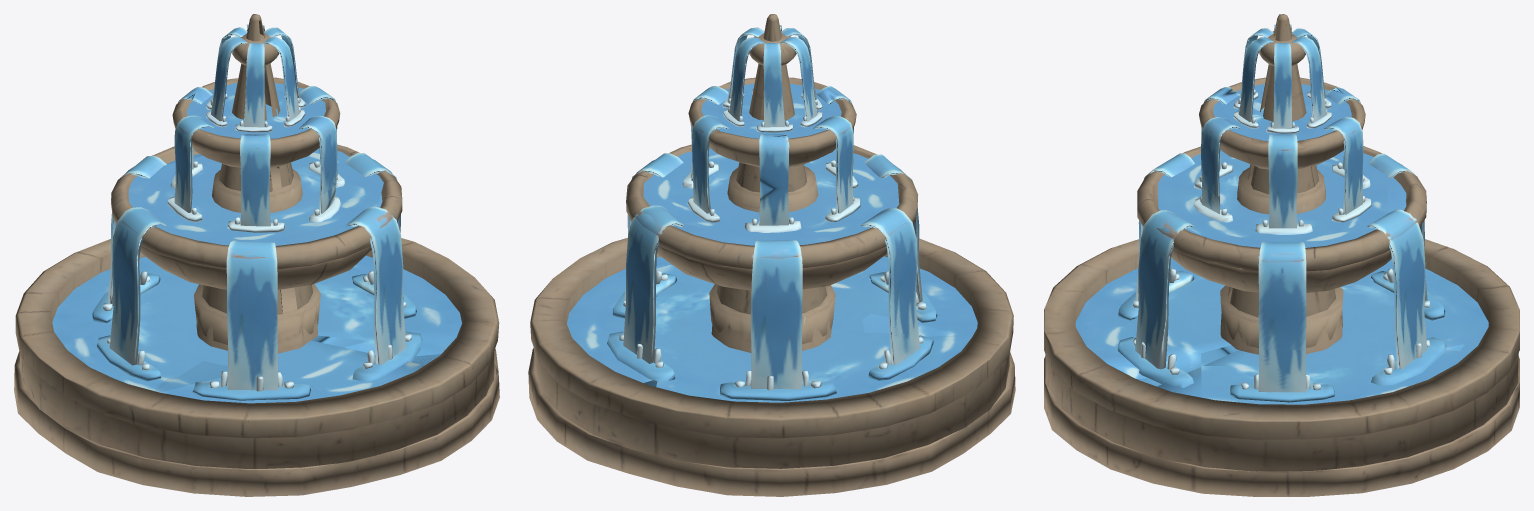
File: fountain.glb
3 renders of one model, left to right at view 1: azimuth 30°, elevation 25°; view 2: azimuth 150°, elevation 25°; view 3: azimuth 270°, elevation 25°, orthographic.
Visible parts, largest first — view 1: geometry_0; view 2: geometry_0; view 3: geometry_0.
Boxes of the visible parts, x1,y1,x2,y2 form: geometry_0: (14, 14, 499, 496); geometry_0: (528, 14, 1015, 496); geometry_0: (1044, 14, 1519, 496).
Size of the model in its own units: 1 by 0.8852 by 1.
Materials: 1 (1 with a texture image).
